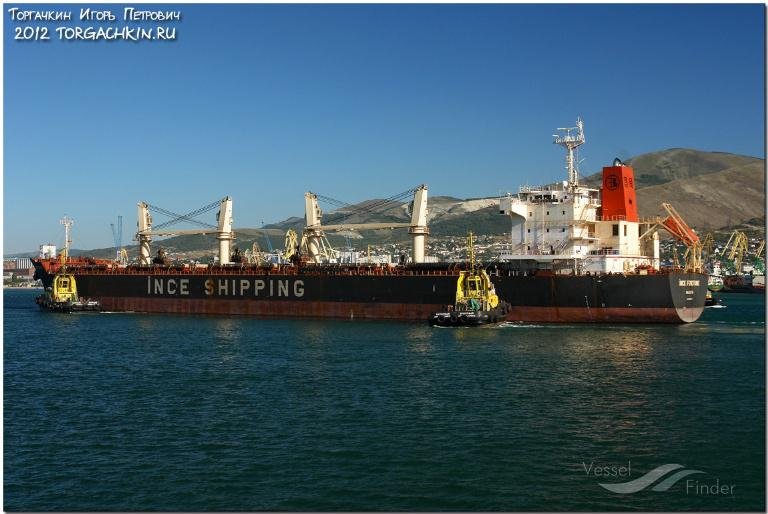OCR: (138, 274, 311, 298)
